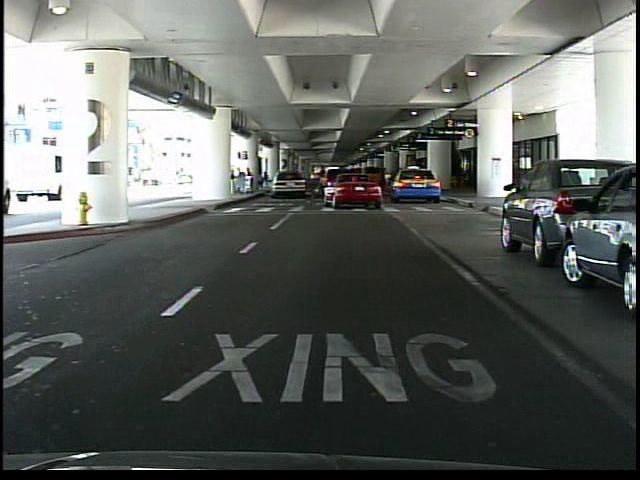person: (316, 166, 326, 197)
